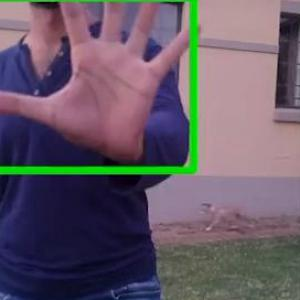follow_hand: (1, 0, 206, 163)
